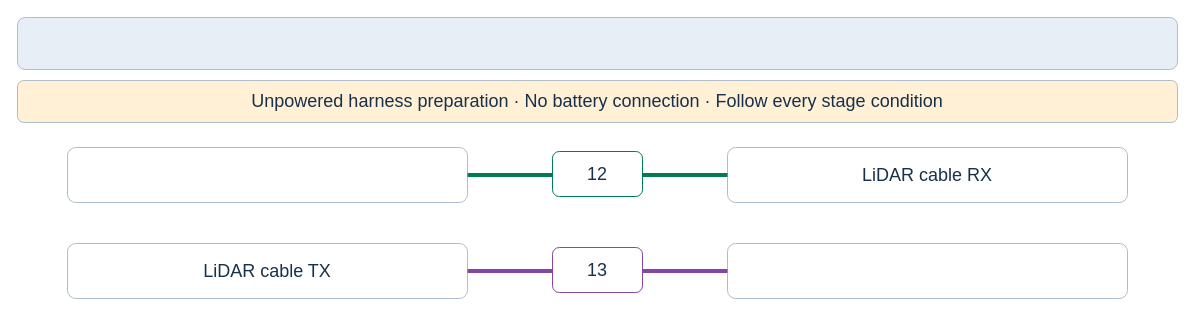
This 1195x316 diagram has some shape labels left out. The shapes that lost their labels are listed below. From the top down, each one's centre as x and y in pixels, then its label:
the point at 597,43: 7 · Add the two permanent UART wires
the point at 267,174: XIAO D4 / GPIO5
the point at 927,270: XIAO D5 / GPIO6
